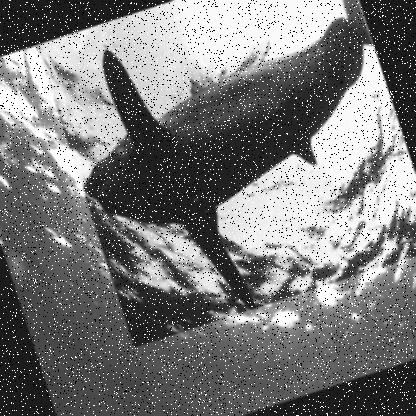mako-shark: (36, 0, 415, 350)
